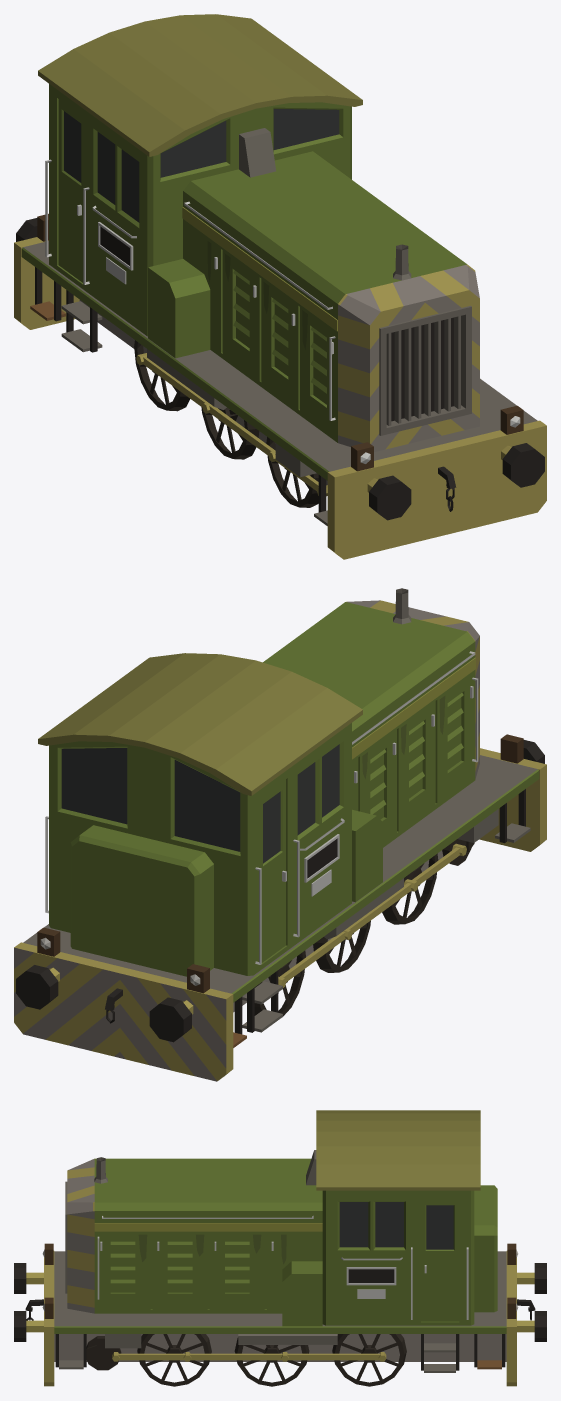
The model's file is diesel-shunter-67094b.glb.
3 renders of one model, top to bottom at view 1: azimuth 30°, elevation 25°; view 2: azimuth 150°, elevation 25°; view 3: azimuth 270°, elevation 25°, orthographic. The views are drawn at different scales.
Visible parts, largest first — view 1: body, coupling-rods, wheel-2-set, wheel-3-set, wheel-1-set; view 2: body, coupling-rods, wheel-1-set, wheel-2-set, wheel-3-set; view 3: body, coupling-rods, wheel-3-set, wheel-1-set, wheel-2-set, jackshaft-discs.
Boxes of the visible parts, left/top/right/bottom form: body: left=14, top=14, right=546, bottom=559; coupling-rods: left=136, top=353, right=327, bottom=496; wheel-2-set: left=201, top=407, right=259, bottom=459; wheel-3-set: left=134, top=340, right=189, bottom=411; wheel-1-set: left=266, top=437, right=318, bottom=507; body: left=14, top=588, right=546, bottom=1081; coupling-rods: left=278, top=843, right=466, bottom=987; wheel-1-set: left=382, top=853, right=438, bottom=924; wheel-2-set: left=313, top=920, right=370, bottom=972; wheel-3-set: left=254, top=950, right=305, bottom=1016; body: left=14, top=1110, right=546, bottom=1386; coupling-rods: left=112, top=1352, right=386, bottom=1361; wheel-3-set: left=332, top=1334, right=406, bottom=1386; wheel-1-set: left=137, top=1334, right=211, bottom=1386; wheel-2-set: left=234, top=1337, right=309, bottom=1386; jackshaft-discs: left=86, top=1336, right=121, bottom=1370.
Bounding box in the file's own units: 2.82 × 3.98 × 8.2.
